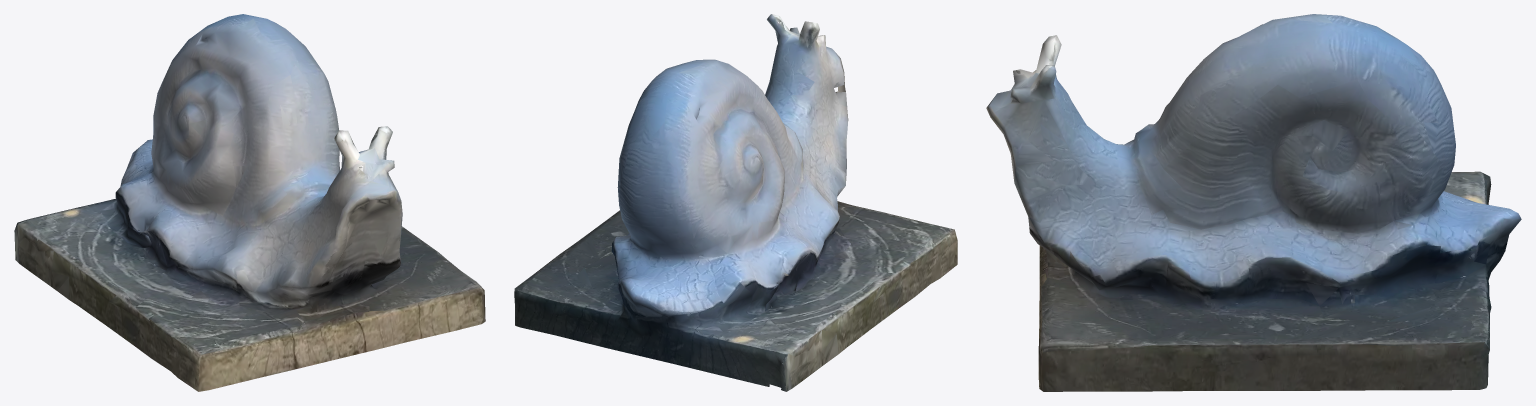
Rendered from S022_MaritimeSnail.glb.
The picture shows the model from 3 angles, left to right: view 1: azimuth 30°, elevation 25°; view 2: azimuth 150°, elevation 25°; view 3: azimuth 270°, elevation 25°; orthographic projection. The views are drawn at different scales.
Parts seen in each view (by area): view 1: S022_RETOPO; view 2: S022_RETOPO; view 3: S022_RETOPO.
Part boxes in pixels (x1,y1,x2,y2): S022_RETOPO: [14, 14, 485, 391]; S022_RETOPO: [514, 14, 957, 391]; S022_RETOPO: [986, 14, 1521, 391].
Bounding box in the file's own units: 2.48 × 1.99 × 3.22.
Materials: 1 (1 with a texture image).
